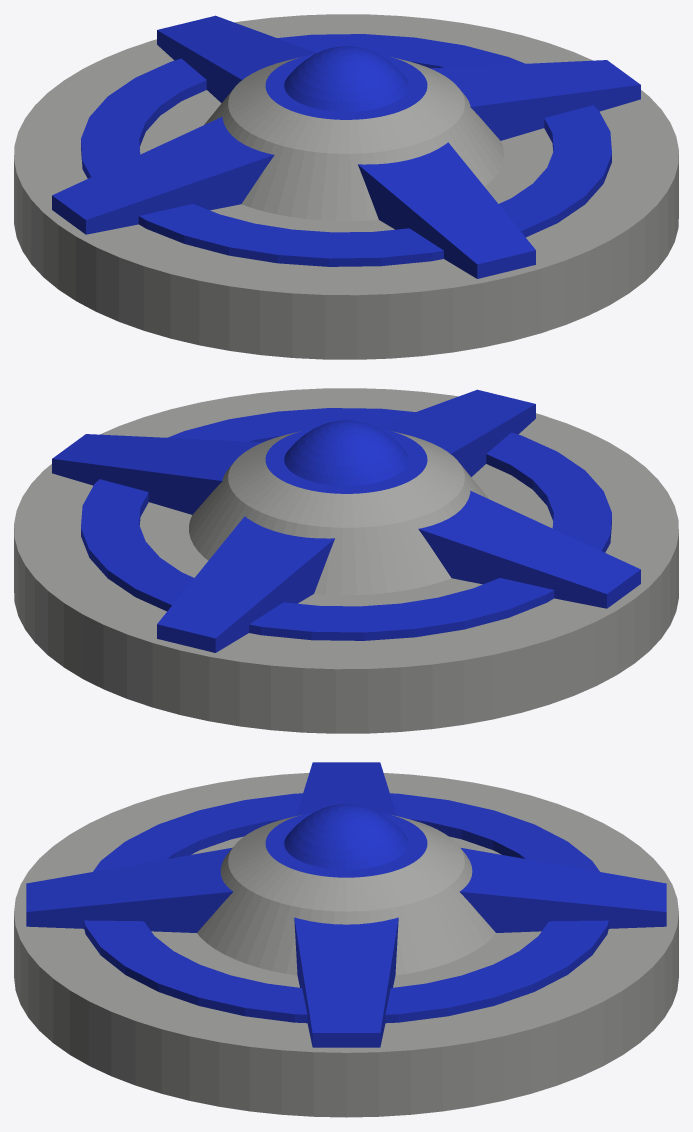
Rendered from Landmine_Water.fbx.
3 views of the same model, one above another, from view 1: azimuth 30°, elevation 25°; view 2: azimuth 150°, elevation 25°; view 3: azimuth 270°, elevation 25° (orthographic).
Visible parts, largest first — view 1: Circle; view 2: Circle; view 3: Circle.
Boxes of the visible parts, x1,y1,x2,y2 form: Circle: (14, 14, 678, 359); Circle: (14, 388, 678, 733); Circle: (14, 762, 678, 1117).
Bounding box in the file's own units: 200 × 55.49 × 200.
Materials: 1 (1 with a texture image).
